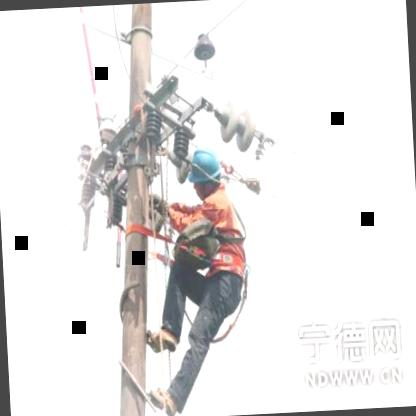helmet: (184, 136, 226, 199)
